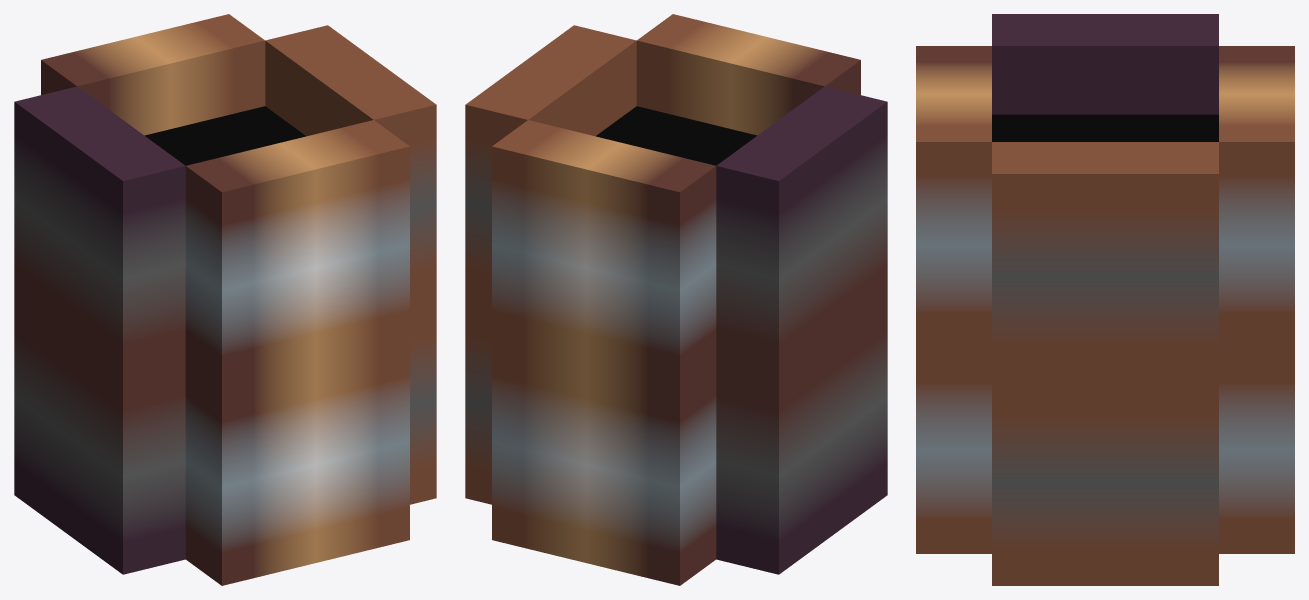
Rendered from barrel.fbx.
3 views of the same model, side by side, from view 1: azimuth 30°, elevation 25°; view 2: azimuth 150°, elevation 25°; view 3: azimuth 270°, elevation 25° (orthographic). The views are drawn at different scales.
Visible parts, largest first — view 1: barrel; view 2: barrel; view 3: barrel.
Boxes of the visible parts, x1,y1,x2,y2 form: barrel: (14,14,436,585); barrel: (465,14,887,585); barrel: (916,14,1294,585).
Size of the model in its own units: 5 by 6 by 5.
